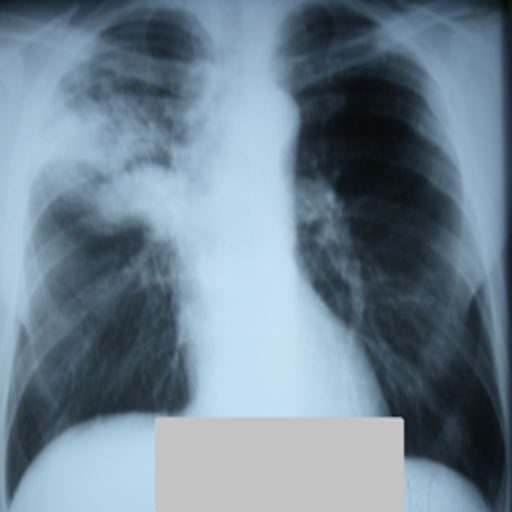TB: (35, 96, 154, 243)
